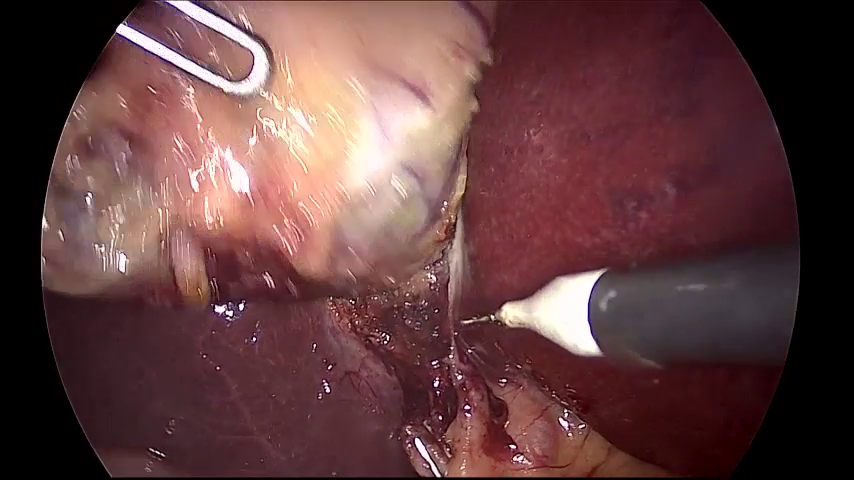grasper: (116, 1, 269, 95)
lhook: (460, 246, 800, 371)
